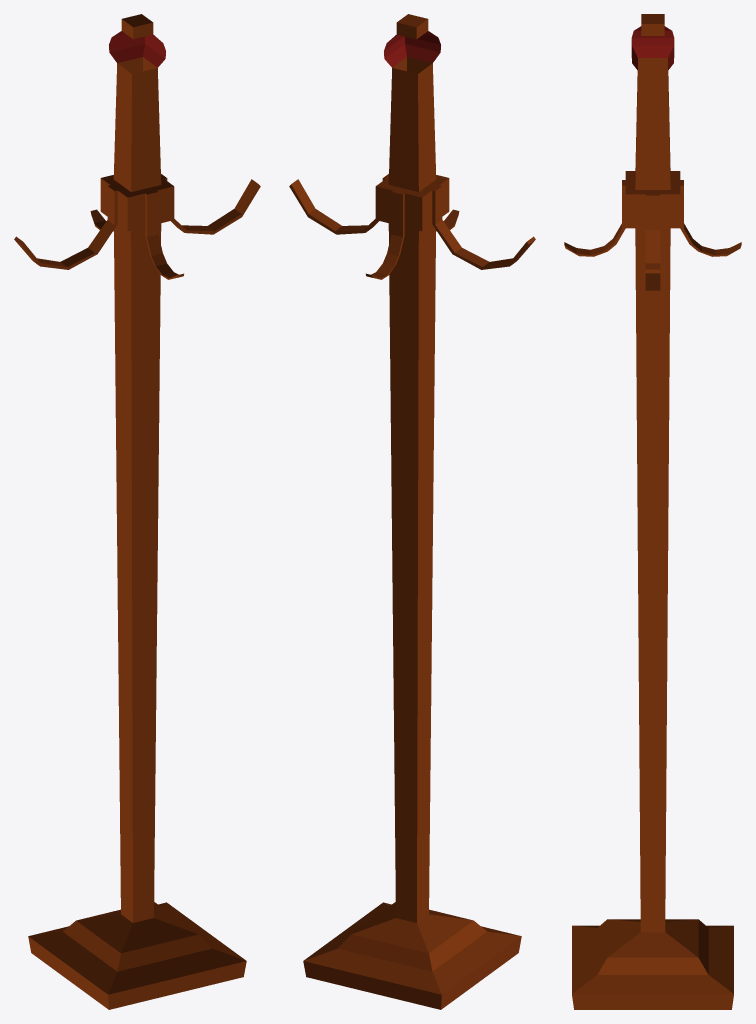
Rendered from Coat Rack 3.fbx.
3 renders of one model, left to right at view 1: azimuth 30°, elevation 25°; view 2: azimuth 150°, elevation 25°; view 3: azimuth 270°, elevation 25°, orthographic.
Parts seen in each view (by area): view 1: Node 0; view 2: Node 0; view 3: Node 0.
Boxes of the visible parts, x1,y1,x2,y2 form: Node 0: [14, 14, 260, 1009]; Node 0: [289, 14, 535, 1009]; Node 0: [564, 14, 741, 1009].
Size of the model in its own units: 0.3428 by 2.04 by 0.5429.
